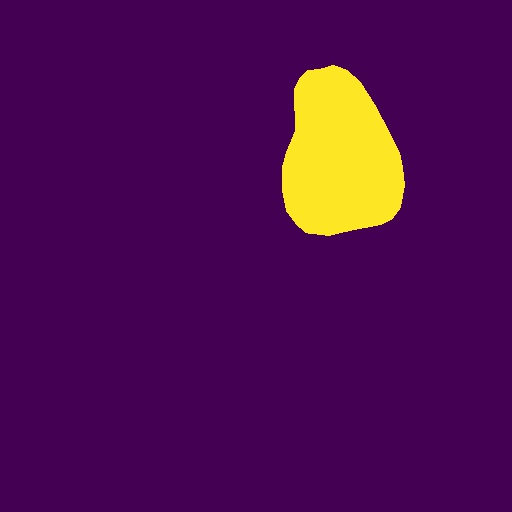Gliomia_tumour: (282, 65, 405, 236)
